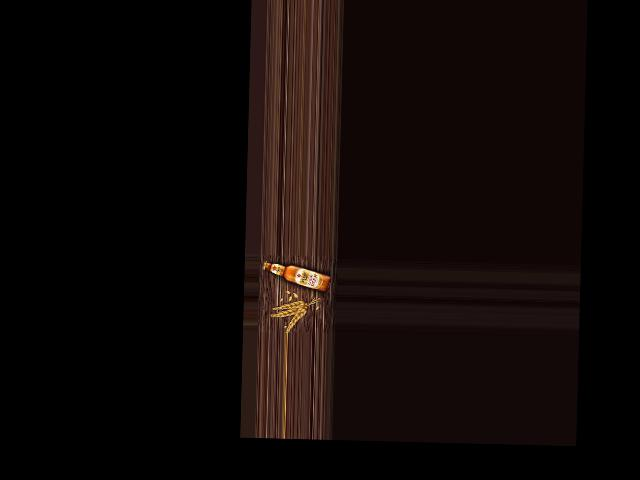beer: (262, 260, 331, 291)
